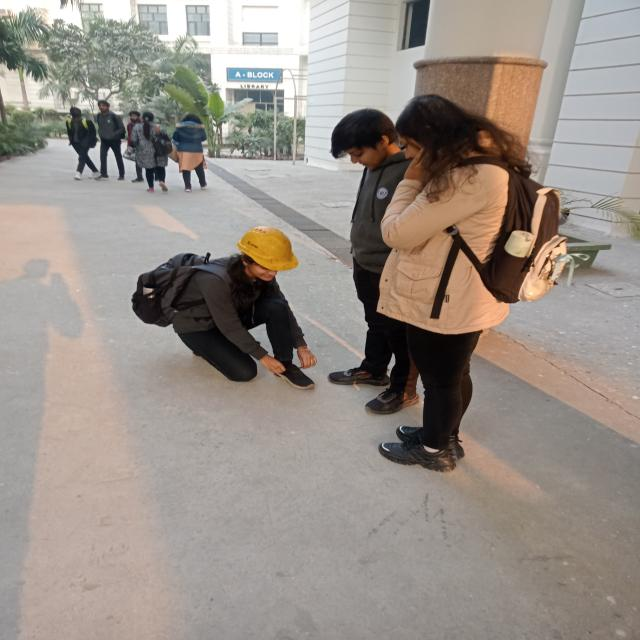no jacket: (132, 228, 316, 391)
unsafe: (380, 95, 530, 471), (328, 108, 421, 411), (170, 108, 214, 192), (130, 108, 172, 193), (61, 104, 98, 179), (95, 101, 127, 182)
